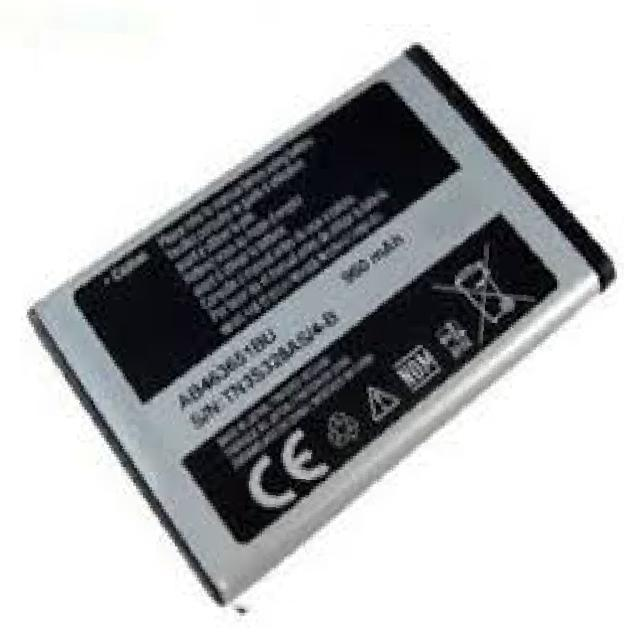Battery: (24, 30, 620, 618)
